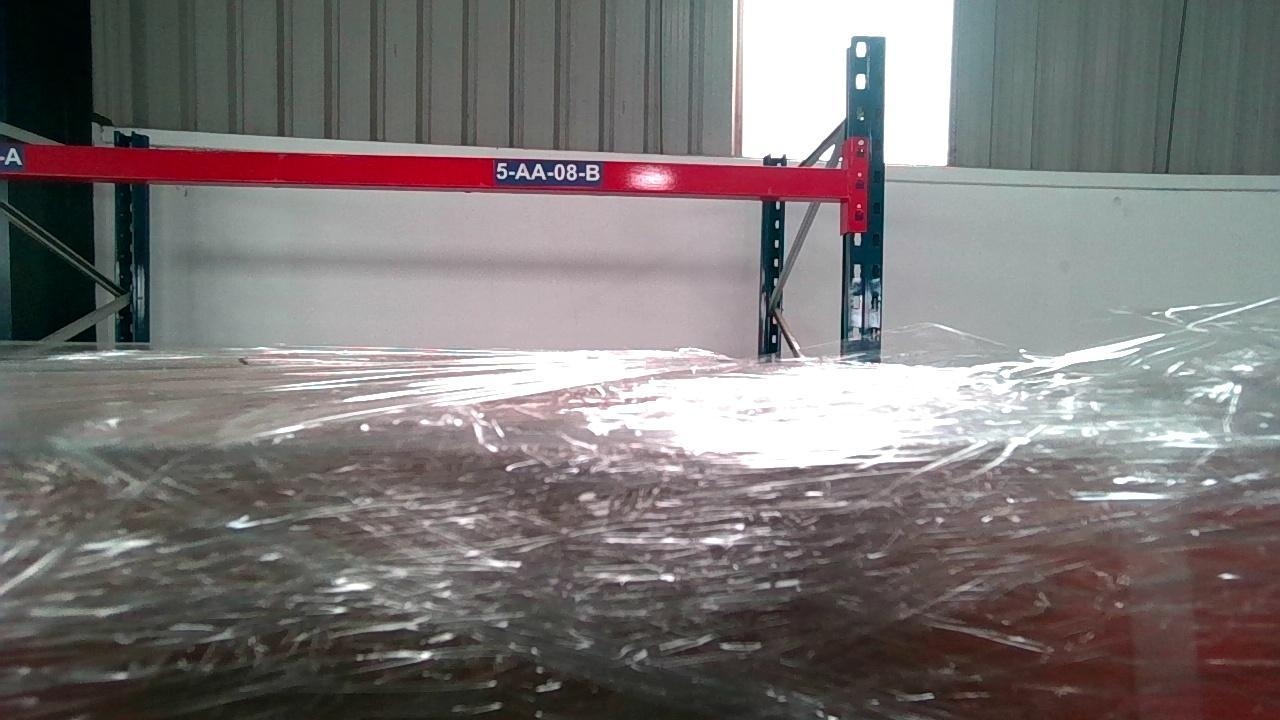h_rack: (0, 141, 848, 197)
